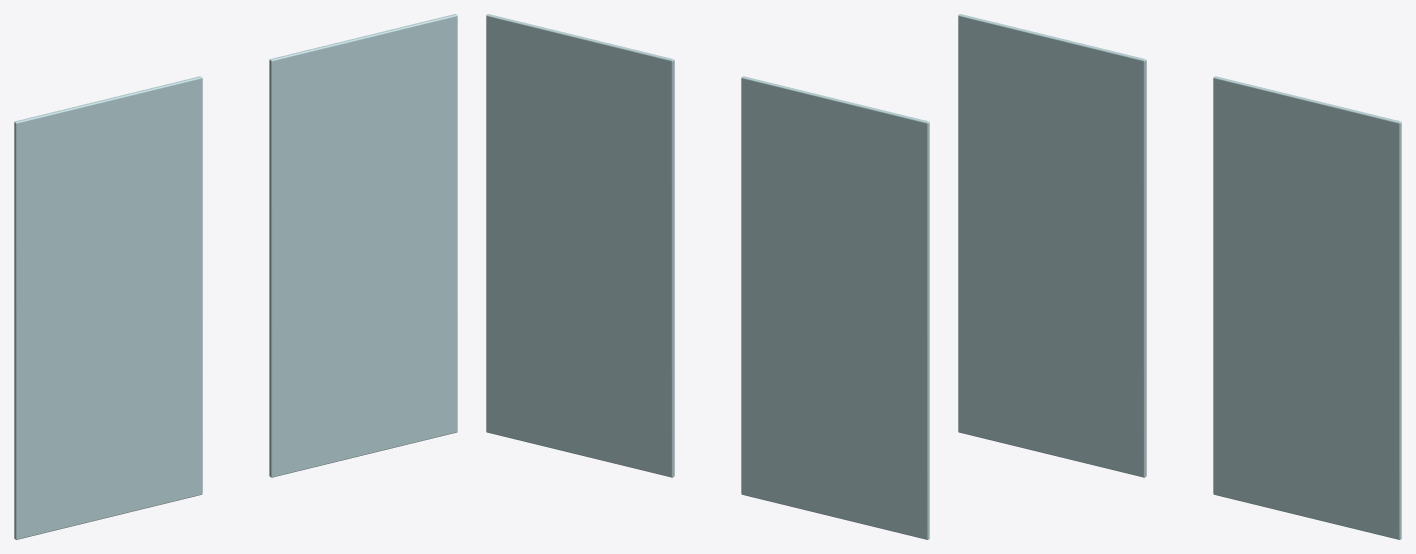
The model's file is CP_EmergencyGlass.fbx.
3 renders of one model, left to right at view 1: azimuth 30°, elevation 25°; view 2: azimuth 150°, elevation 25°; view 3: azimuth 330°, elevation 25°, orthographic.
Visible parts, largest first — view 1: CP_EmergencyGlass; view 2: CP_EmergencyGlass; view 3: CP_EmergencyGlass.
Part boxes in pixels (left/top/right/bottom): CP_EmergencyGlass: left=14, top=14, right=457, bottom=539; CP_EmergencyGlass: left=486, top=14, right=929, bottom=539; CP_EmergencyGlass: left=958, top=14, right=1401, bottom=539.
Size of the model in its own units: 68.6 by 61.9 by 0.6.
